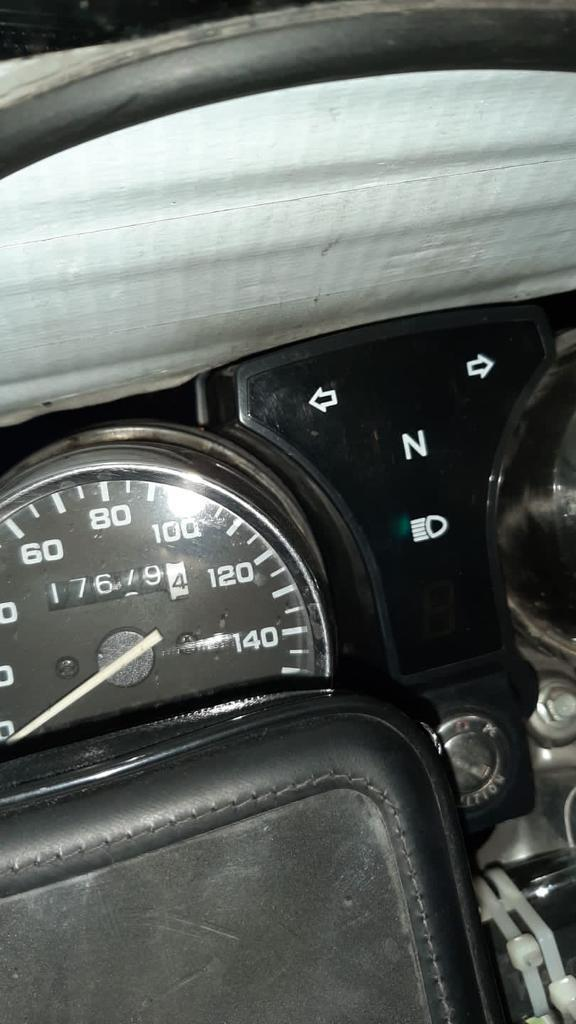1: (47, 581, 62, 606)
6: (93, 572, 114, 596)
7: (67, 579, 85, 603), (126, 565, 135, 588)
9: (142, 563, 161, 586), (171, 570, 190, 590)
odometer: (39, 557, 192, 614)
